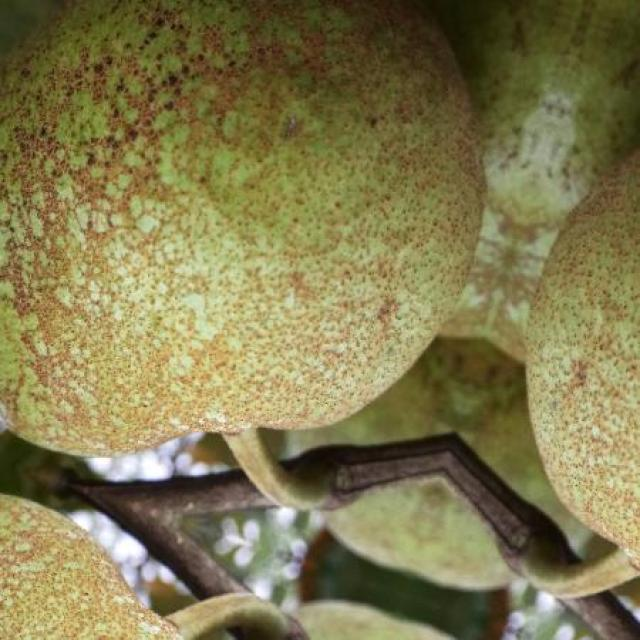Scab: (0, 0, 481, 454), (526, 150, 640, 564), (0, 494, 180, 640)
